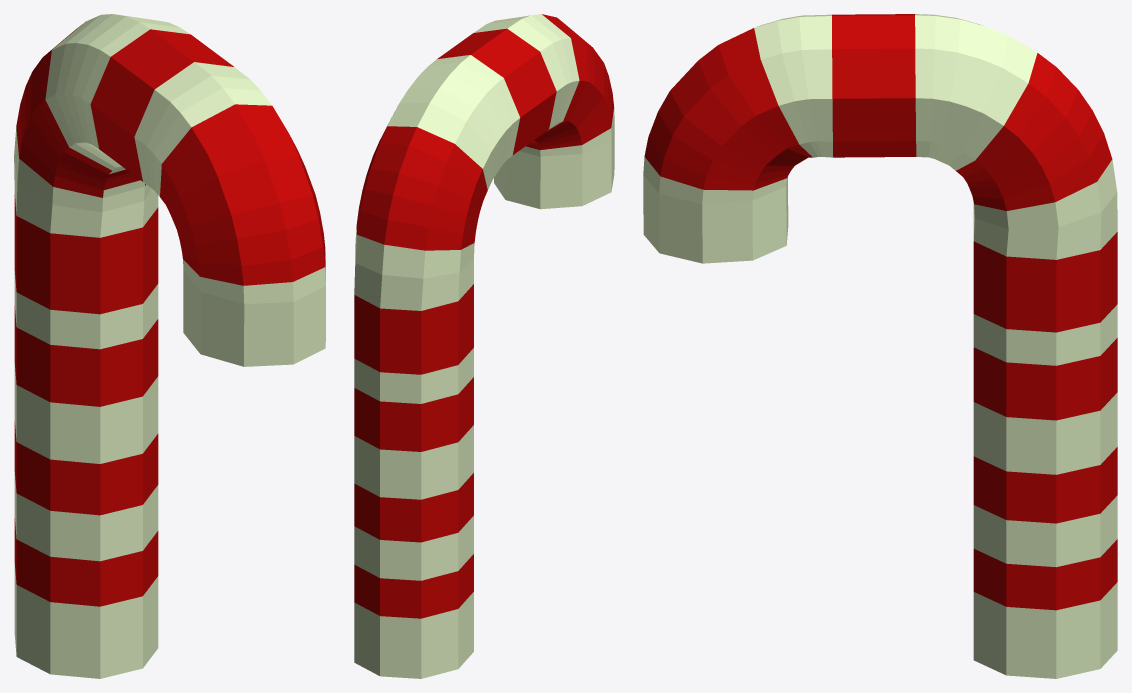
File: candy.obj
3 renders of one model, left to right at view 1: azimuth 30°, elevation 25°; view 2: azimuth 150°, elevation 25°; view 3: azimuth 270°, elevation 25°, orthographic. The views are drawn at different scales.
Parts seen in each view (by area): view 1: Циліндр; view 2: Циліндр; view 3: Циліндр.
Boxes of the visible parts, <box> form: Циліндр: <box>14,14,325,678</box>; Циліндр: <box>354,14,614,678</box>; Циліндр: <box>643,14,1117,678</box>.
Size of the model in its own units: 1.37 by 7.1 by 4.81.
